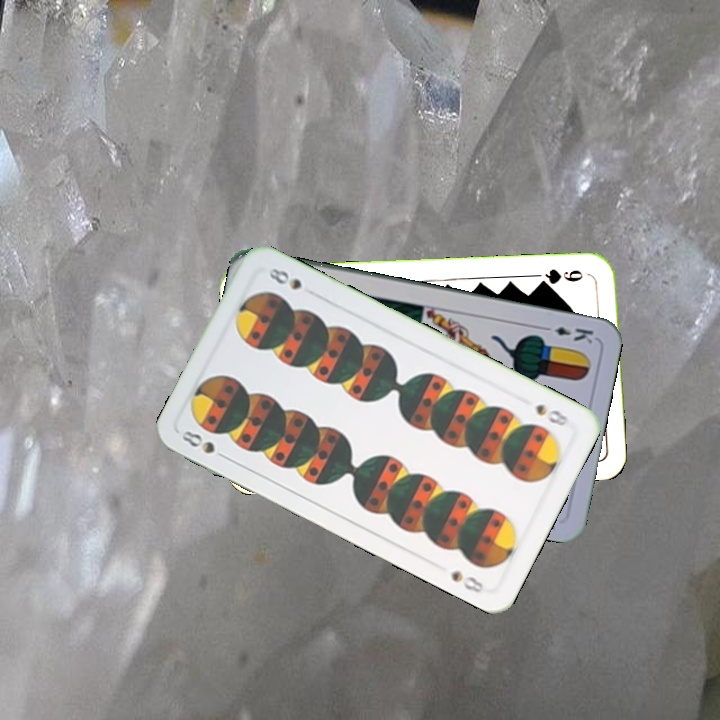EK: (537, 322, 596, 346)
G9: (534, 265, 586, 288)
S8: (177, 426, 232, 463), (531, 400, 574, 429)
